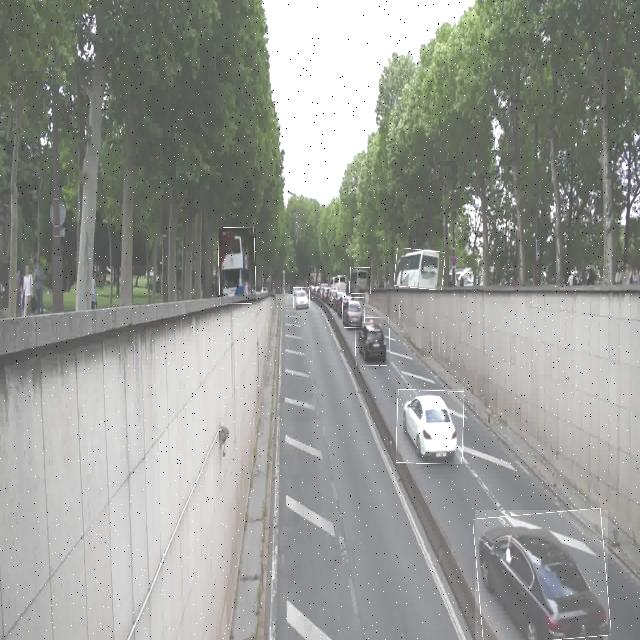Bus: (219, 228, 256, 304), (395, 249, 444, 289), (350, 268, 371, 294)
Car: (475, 510, 608, 640), (396, 389, 464, 464), (356, 318, 390, 366), (343, 298, 365, 328), (294, 287, 310, 310)
